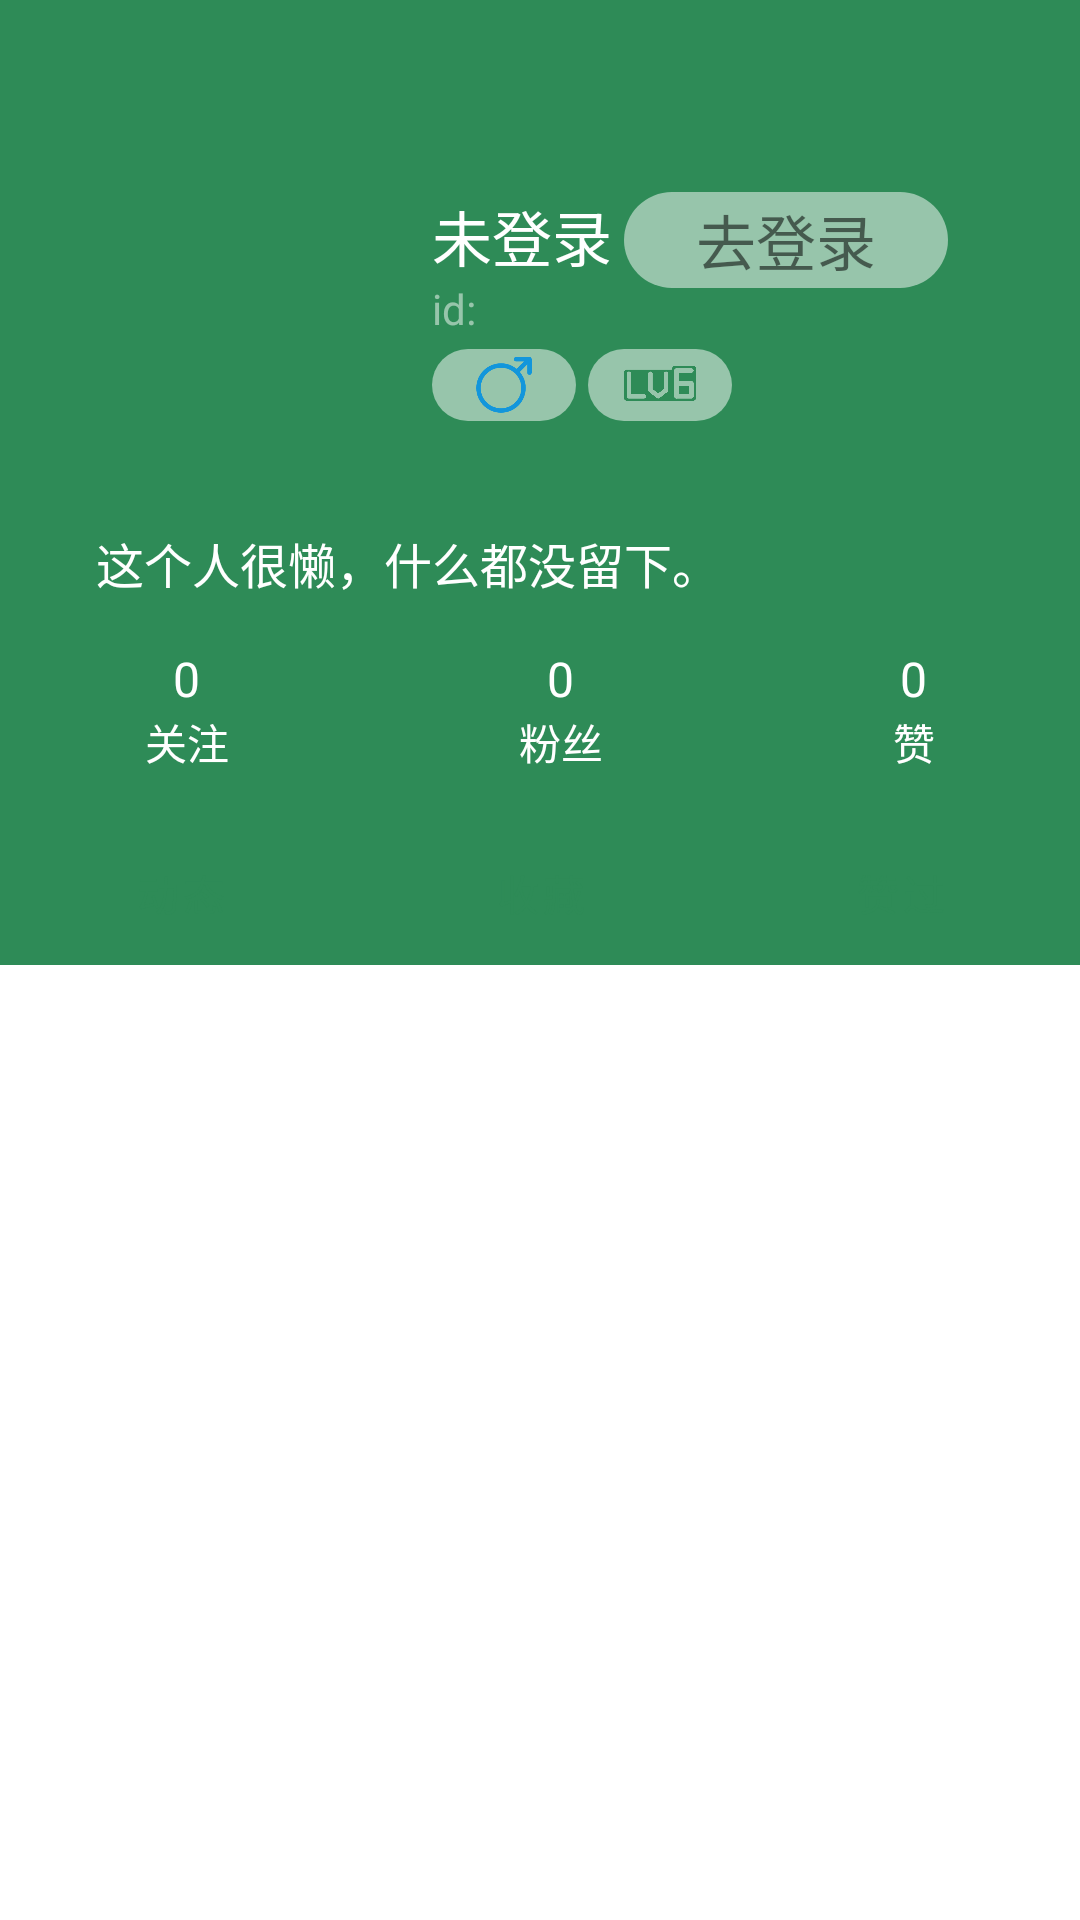

Screen size 1080w x 1920h. Icon name, then its center in pixels as (x,y):
male: (504,385)
